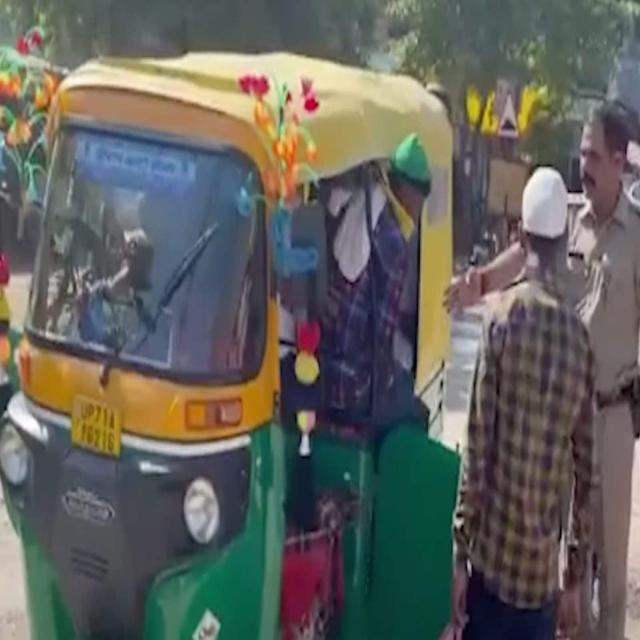autorickshaw: (0, 53, 460, 638)
